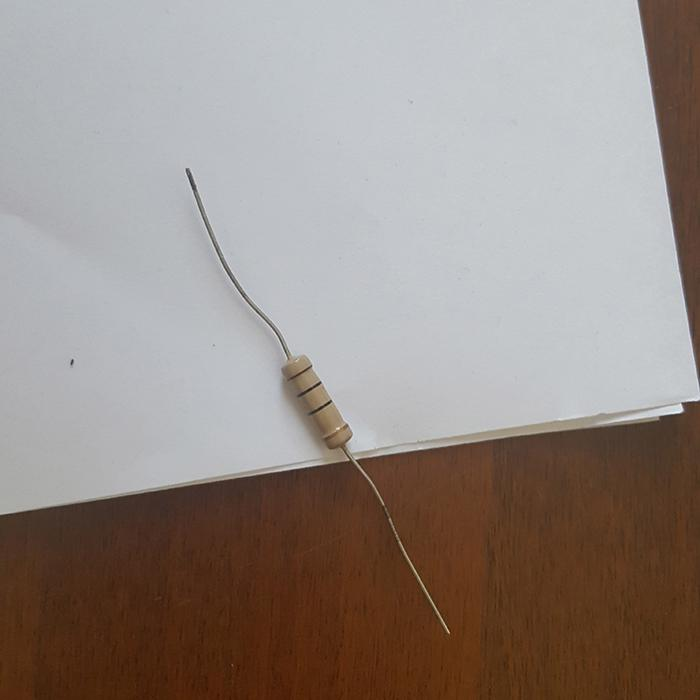resistor: (281, 353, 351, 448)
